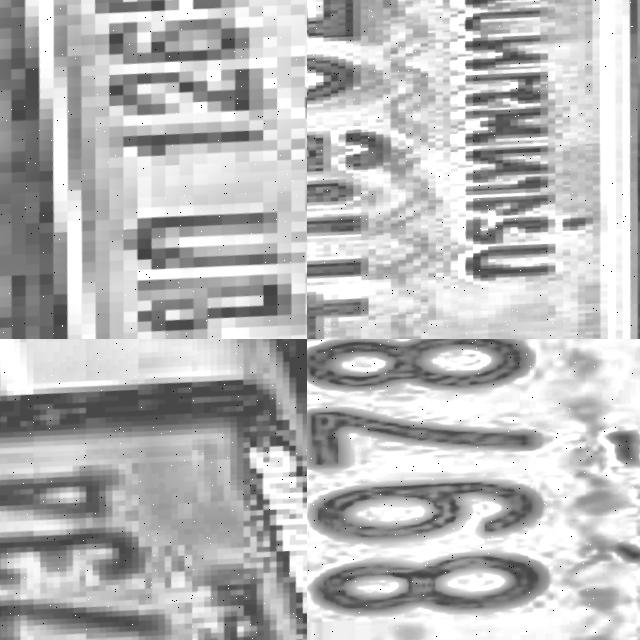license-plate: (307, 0, 640, 339), (0, 0, 307, 339), (307, 339, 640, 640), (0, 339, 307, 640)
